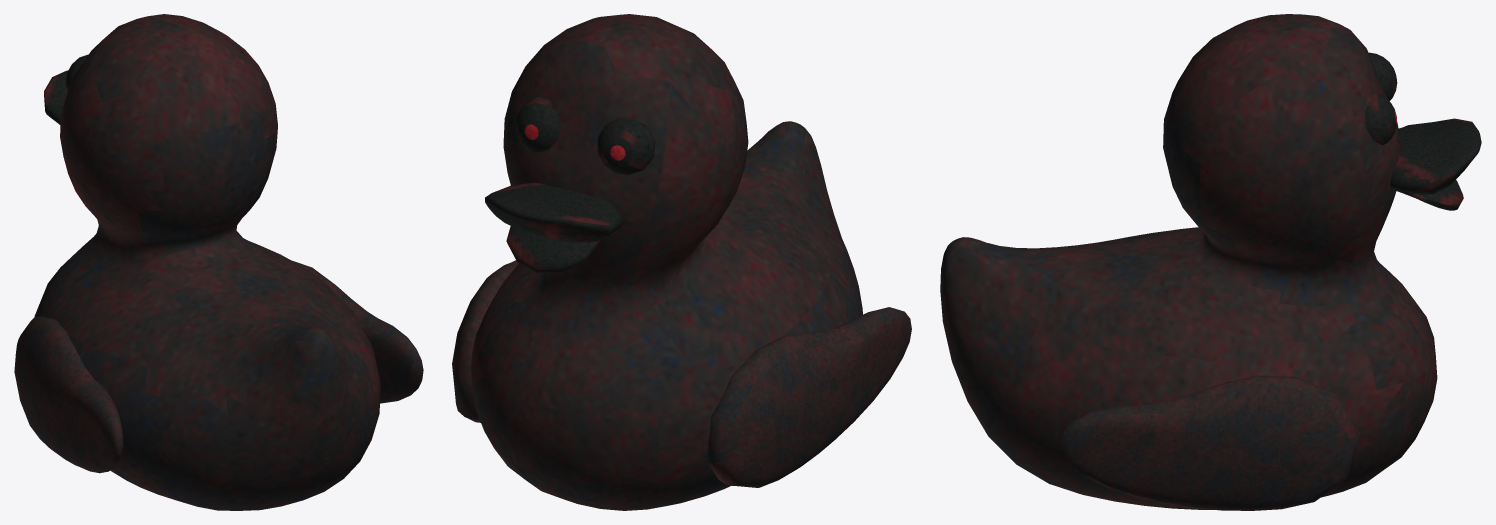
File: demon_duck.fbx
3 views of the same model, side by side, from view 1: azimuth 30°, elevation 25°; view 2: azimuth 150°, elevation 25°; view 3: azimuth 270°, elevation 25° (orthographic). The views are drawn at different scales.
Visible parts, largest first — view 1: Basic duck; view 2: Basic duck; view 3: Basic duck.
Boxes of the visible parts, box(x1,y1,x2,y2) form: Basic duck: box(14, 14, 423, 510); Basic duck: box(452, 14, 911, 510); Basic duck: box(940, 14, 1481, 510).
Bounding box in the file's own units: 106 × 137 × 145.
